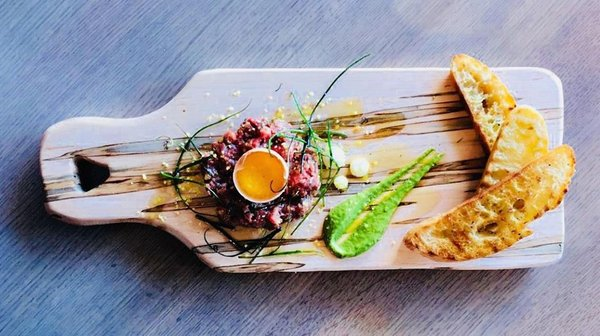soup: (404, 139, 577, 262)
taco: (232, 148, 287, 203)
